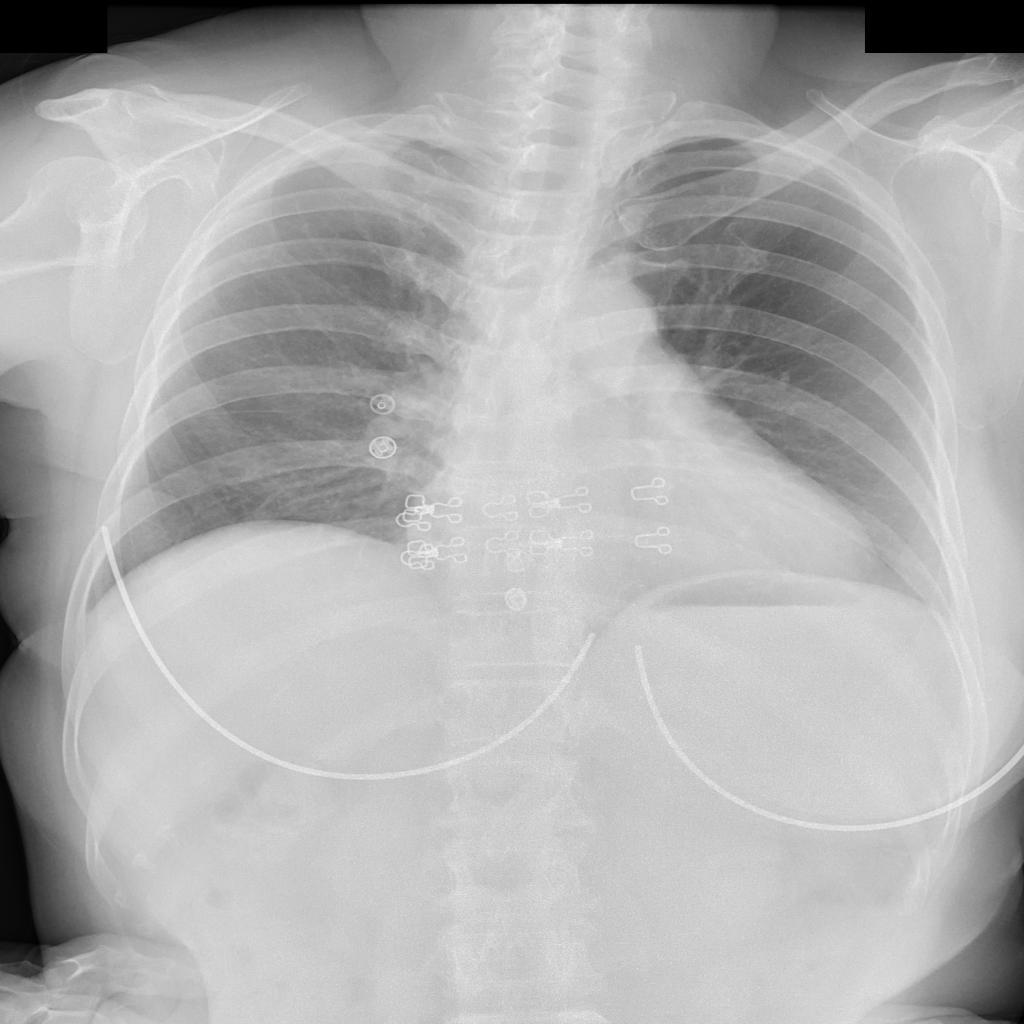Nodule: (119, 494, 204, 558)
